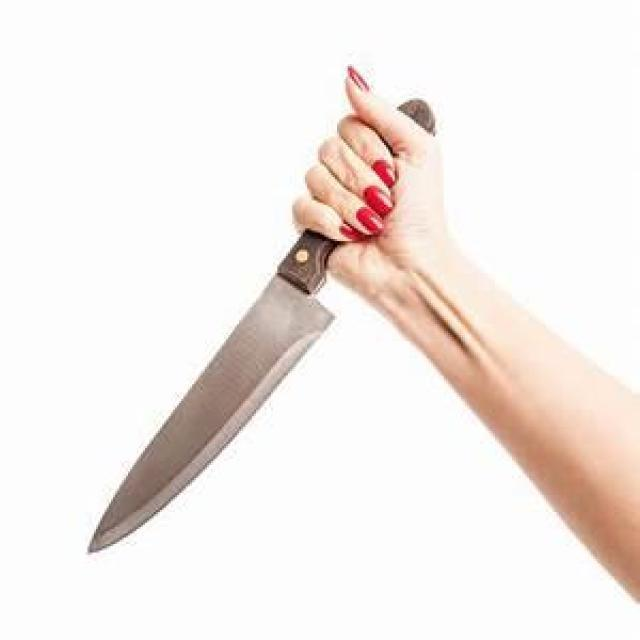Knife: (72, 69, 460, 567)
